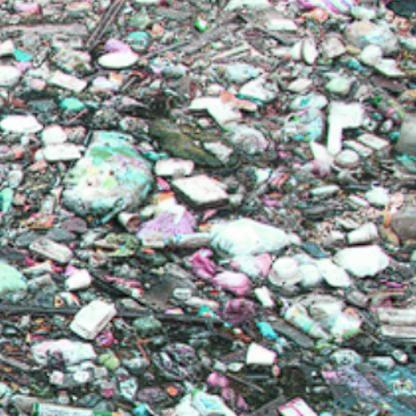Plastic: (238, 338, 282, 373), (344, 219, 382, 249)
Trash: (68, 295, 116, 342)
